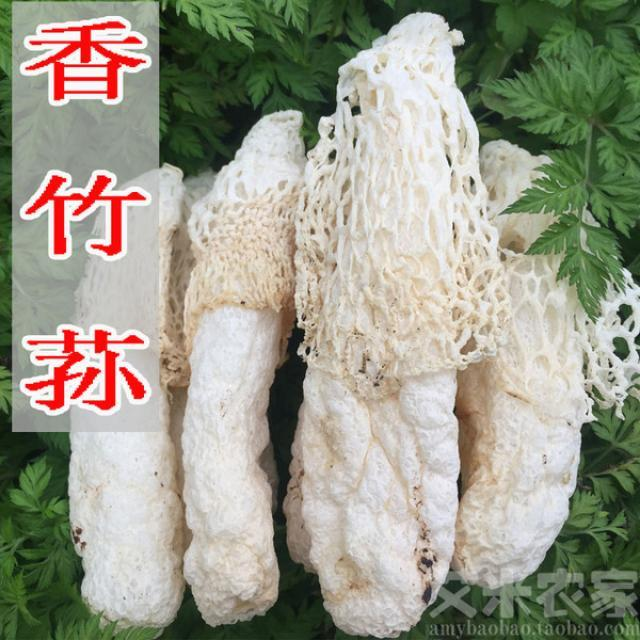Dictyophora indusiate: (291, 13, 510, 631), (442, 140, 640, 591), (180, 105, 290, 622), (67, 160, 181, 632)
